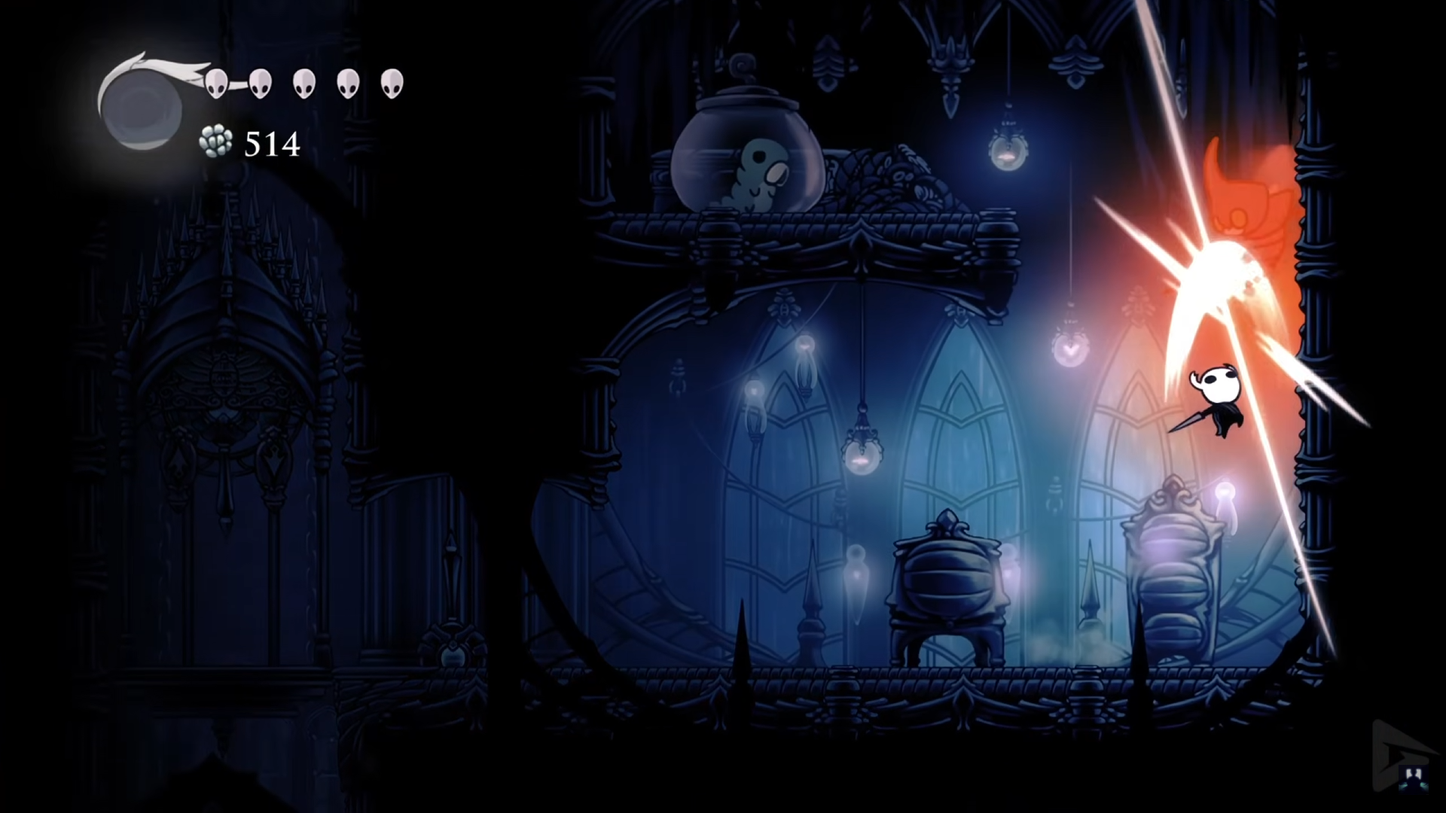HK: (1191, 357, 1247, 443)
